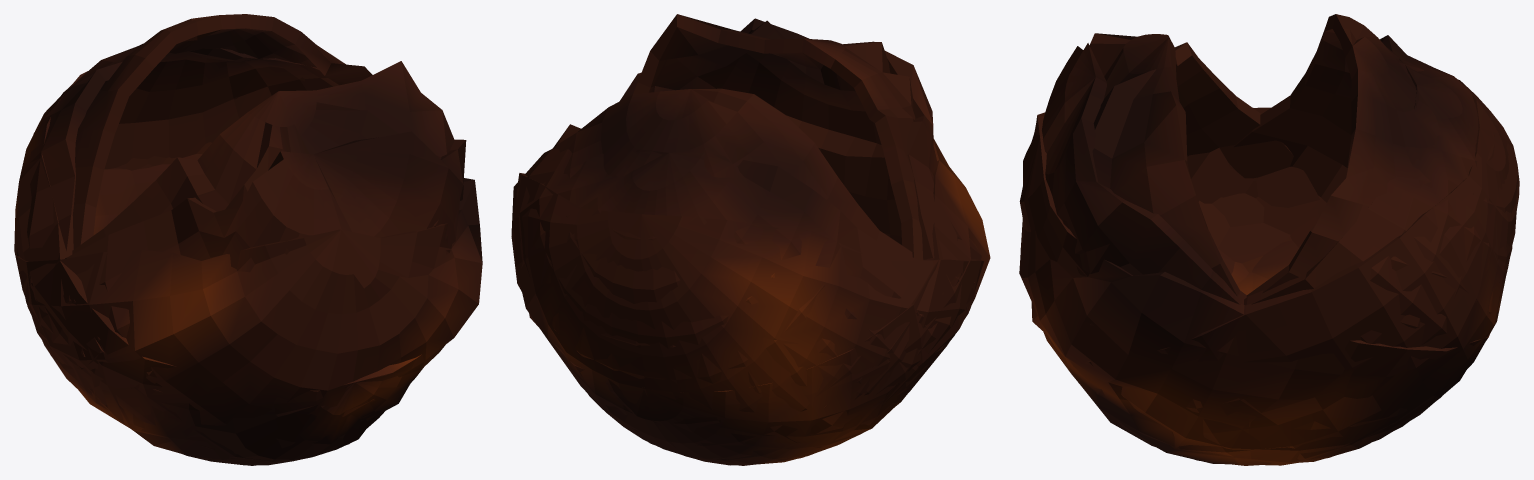
The model's file is Meteor1.fbx.
3 renders of one model, left to right at view 1: azimuth 30°, elevation 25°; view 2: azimuth 150°, elevation 25°; view 3: azimuth 270°, elevation 25°, orthographic. The views are drawn at different scales.
Parts seen in each view (by area): view 1: Küre.003; view 2: Küre.003; view 3: Küre.003.
Boxes of the visible parts, bbox=[...] form: Küre.003: bbox=[14, 14, 482, 465]; Küre.003: bbox=[511, 14, 990, 465]; Küre.003: bbox=[1019, 14, 1519, 465].
Size of the model in its own units: 195 by 188 by 207.
